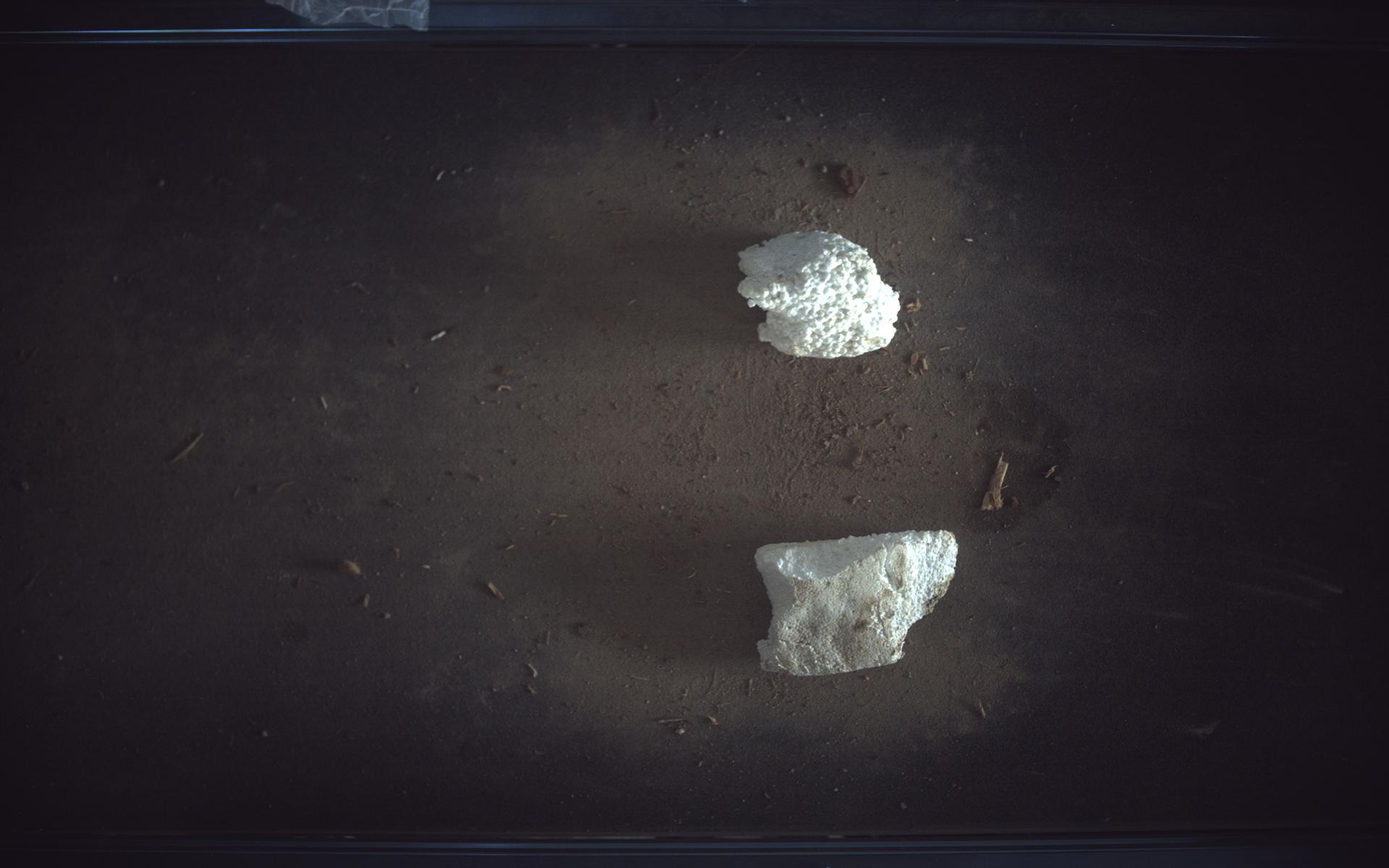foam: (756, 531, 960, 677), (739, 231, 902, 358)
